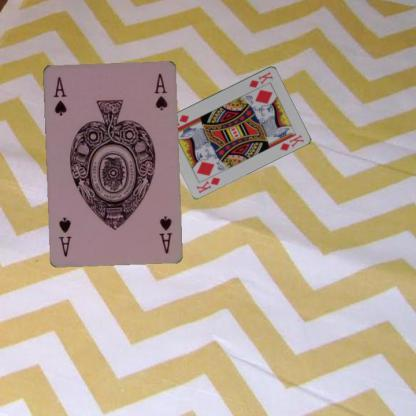As: (50, 74, 67, 117), (156, 212, 172, 254)
Kd: (247, 69, 274, 88), (194, 175, 221, 194)
